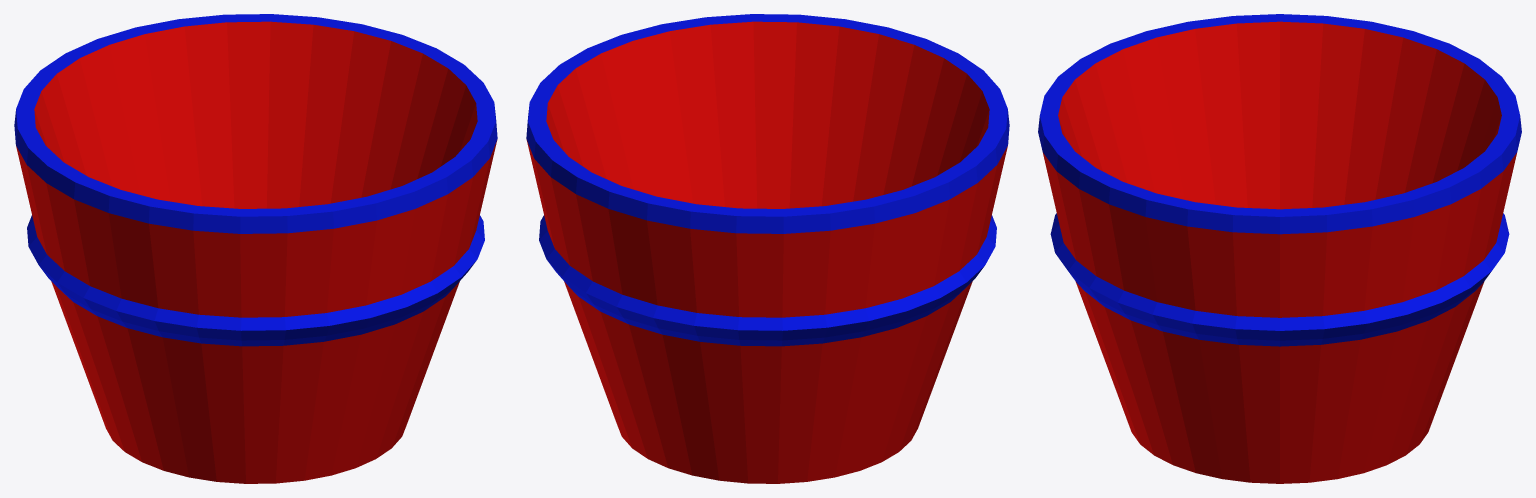
The model's file is Bucket.dae.
3 views of the same model, side by side, from view 1: azimuth 30°, elevation 25°; view 2: azimuth 150°, elevation 25°; view 3: azimuth 270°, elevation 25° (orthographic).
Visible parts, largest first — view 1: Cylinder; view 2: Cylinder; view 3: Cylinder.
Part boxes in pixels (<box>): Cylinder: <box>14,14,497,483</box>; Cylinder: <box>526,14,1009,483</box>; Cylinder: <box>1038,14,1521,483</box>.
Bounding box in the file's own units: 2.88 × 2.88 × 2.
